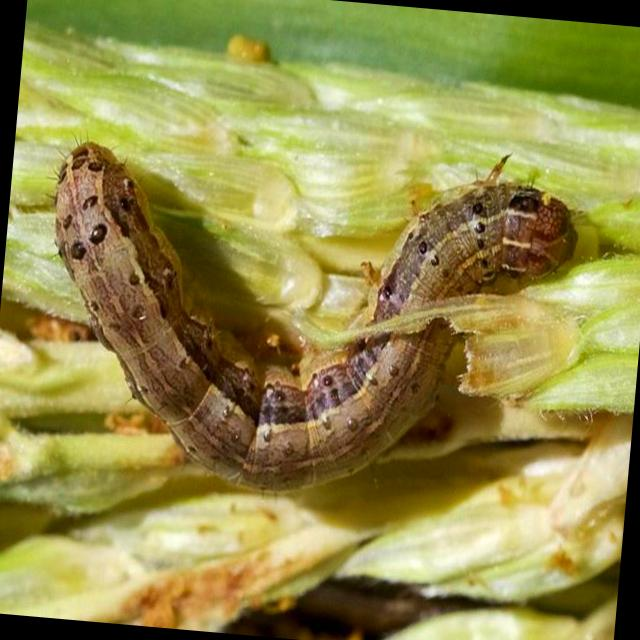pest: (25, 153, 566, 511)
